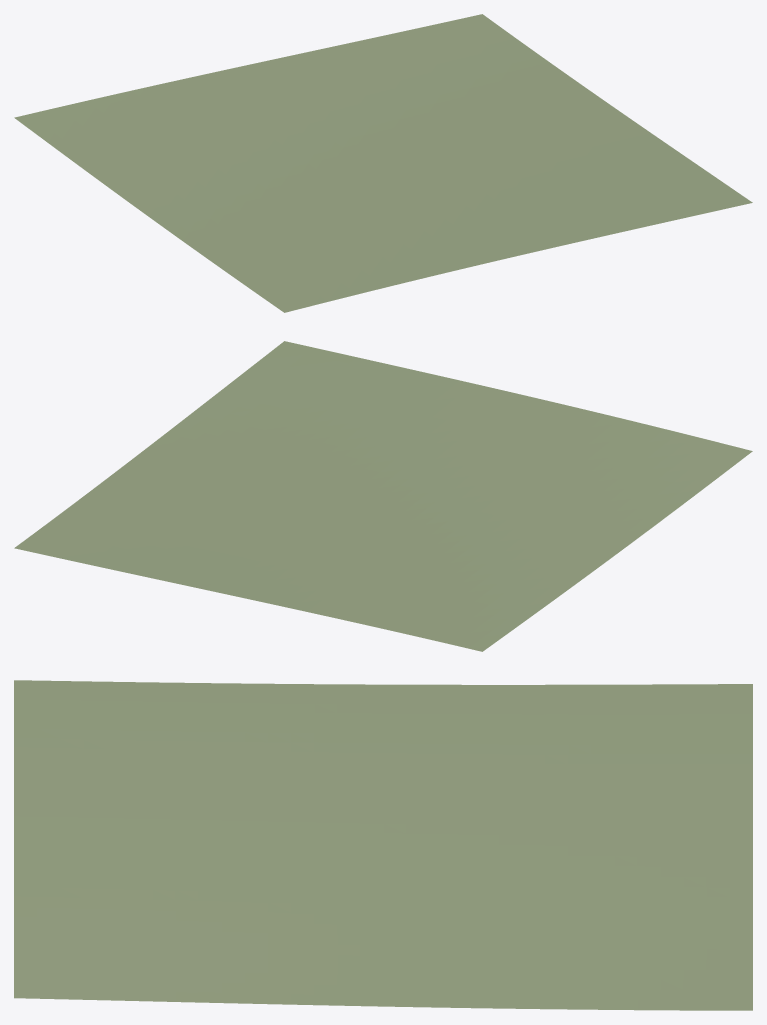
Rendered from expanse-19-25.glb.
3 views of the same model, one above another, from view 1: azimuth 30°, elevation 25°; view 2: azimuth 150°, elevation 25°; view 3: azimuth 270°, elevation 25° (orthographic). The views are drawn at different scales.
Parts seen in each view (by area): view 1: expanse-19-25; view 2: expanse-19-25; view 3: expanse-19-25.
Boxes of the visible parts, x1,y1,x2,y2 form: expanse-19-25: (14, 14, 752, 312); expanse-19-25: (14, 341, 752, 651); expanse-19-25: (14, 680, 752, 1010).
Size of the model in its own units: 256 by 7.37 by 256.
